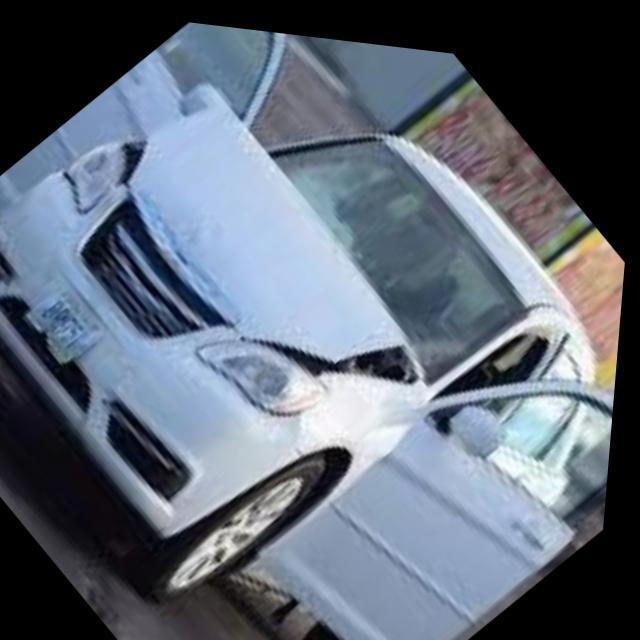dislocated part: (114, 98, 432, 385)
